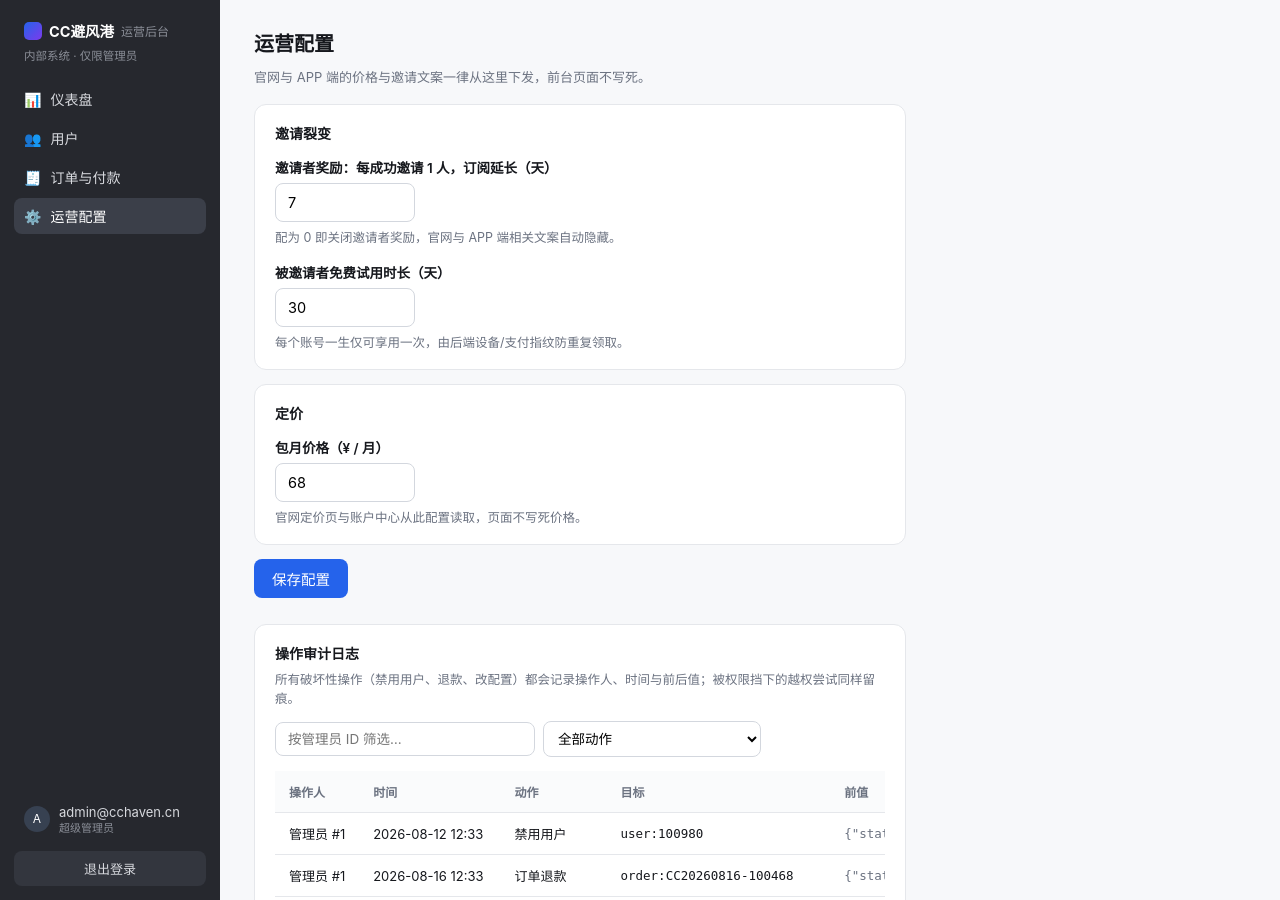
运营配置页 › 审计日志可按操作人筛选，无匹配时给筛选专属空态
Check: the cell "禁用用户" is shown, box [500,812,606,854]
In the search field named "操作人 ID": (405, 739) [275,722,535,756], type "42"
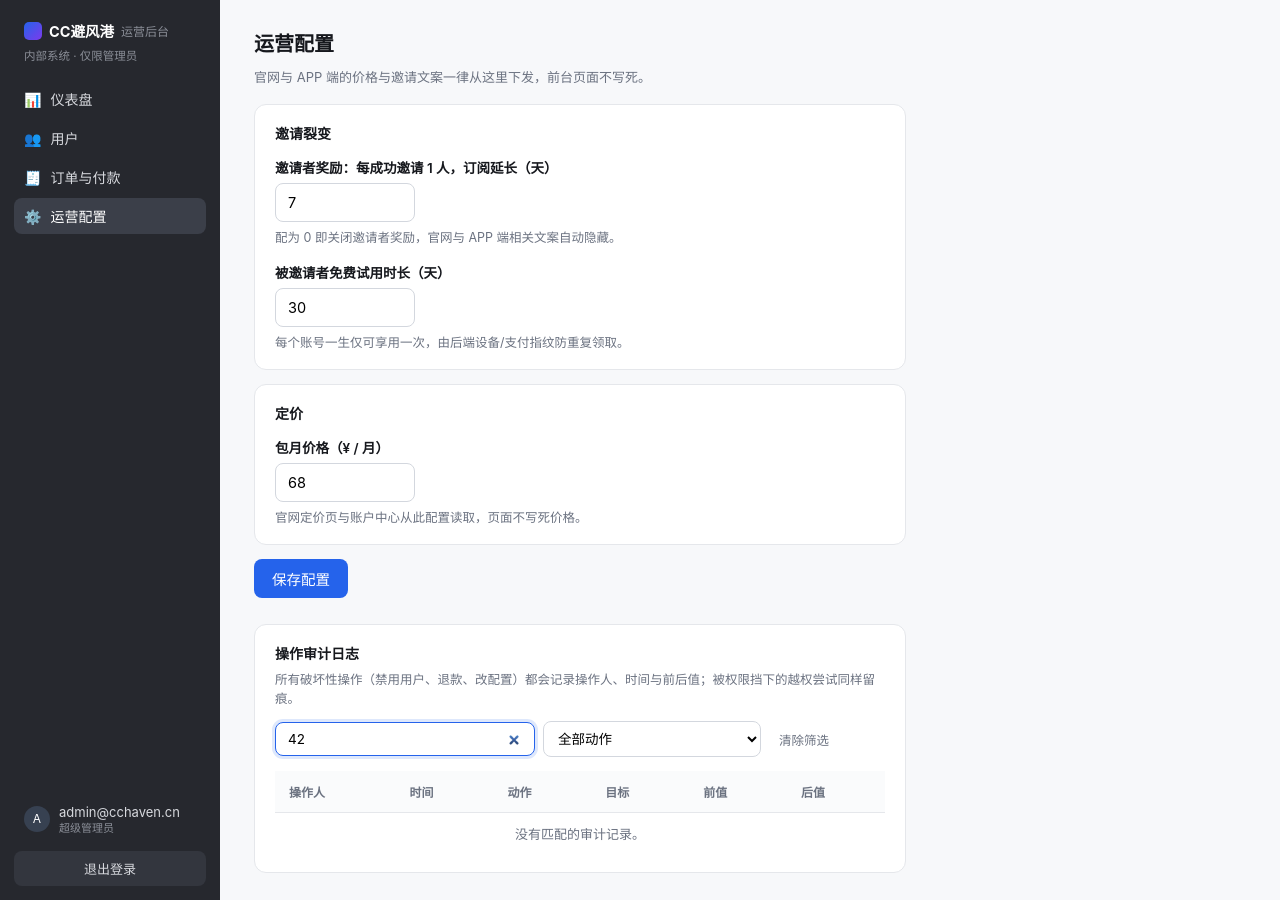
Check: the text "没有匹配的审计记录。" is shown, box [275,812,885,854]
Click the button "清除筛选": click(804, 739) [769,726,839,752]
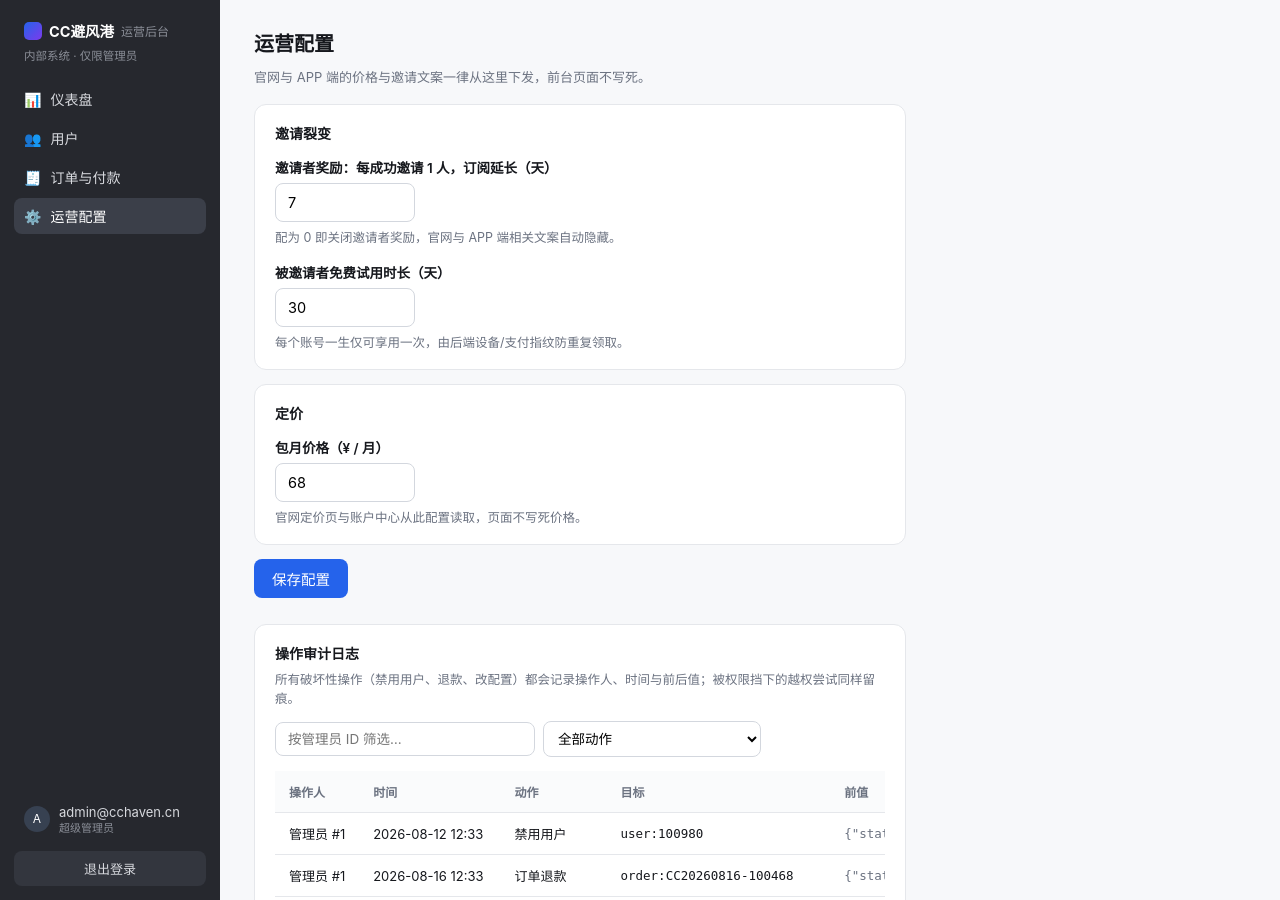
Check: the cell "禁用用户" is shown, box [500,812,606,854]
